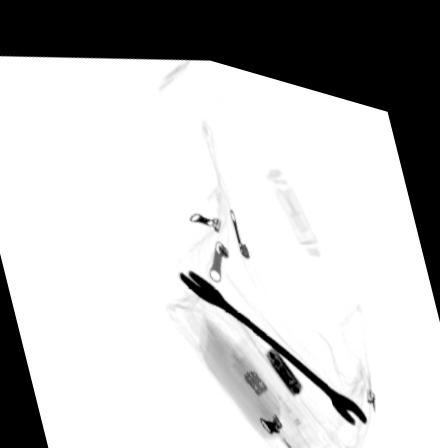Wrench: (180, 256, 367, 406)
